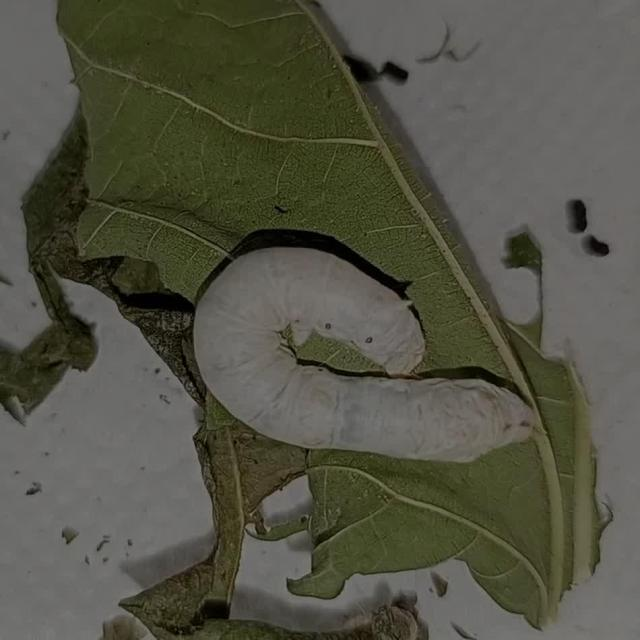Healthy: (172, 214, 560, 506)
